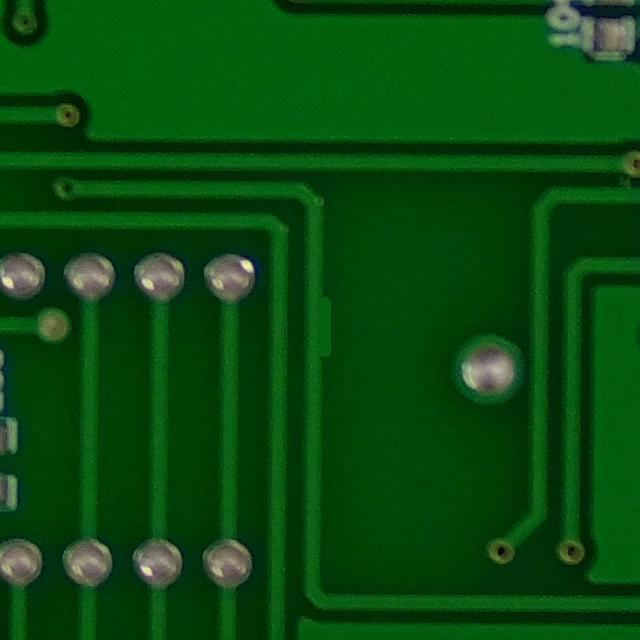spur: (292, 275, 349, 366)
